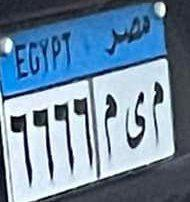6: (16, 101, 34, 183), (35, 99, 52, 184), (56, 92, 73, 172), (73, 88, 88, 175)
م: (103, 78, 121, 163), (149, 83, 166, 152)
ي: (119, 83, 147, 153)
